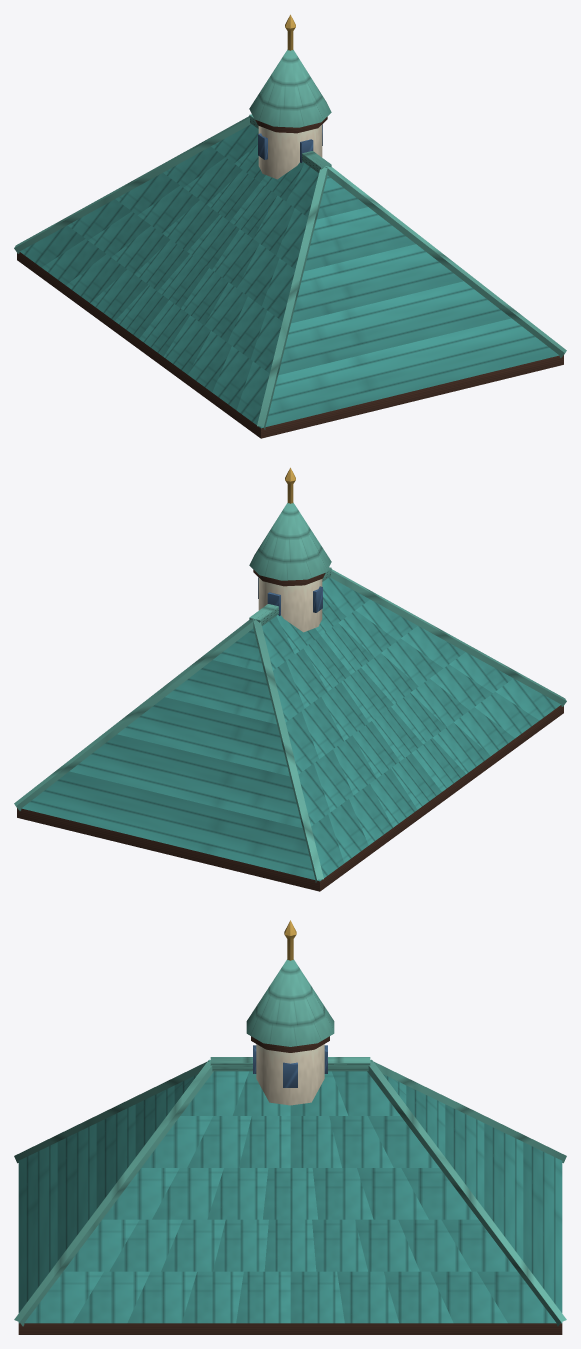
The model's file is bld_roof_b_8x10.glb.
The picture shows the model from 3 angles, top to bottom: view 1: azimuth 30°, elevation 25°; view 2: azimuth 150°, elevation 25°; view 3: azimuth 270°, elevation 25°; orthographic projection. The views are drawn at different scales.
Parts seen in each view (by area): view 1: bld_roof_b_8x10; view 2: bld_roof_b_8x10; view 3: bld_roof_b_8x10.
Part boxes in pixels (left/top/right/bottom): bld_roof_b_8x10: left=14, top=14, right=566, bottom=438; bld_roof_b_8x10: left=14, top=467, right=566, bottom=891; bld_roof_b_8x10: left=14, top=920, right=566, bottom=1334.
Bounding box in the file's own units: 6.9 × 6.34 × 9.57.
1 material, 1 textured.
